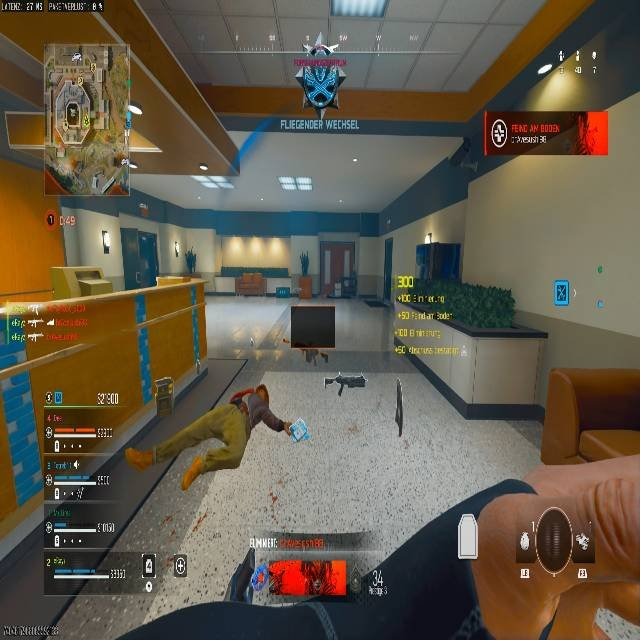head: (307, 44, 331, 56)
player: (293, 44, 347, 109), (185, 248, 196, 274)
